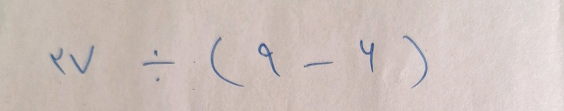character: (208, 32, 247, 90), (401, 31, 430, 92), (140, 47, 178, 84), (256, 38, 284, 80), (70, 43, 97, 81), (357, 37, 379, 77), (48, 46, 68, 78), (301, 56, 338, 70)
